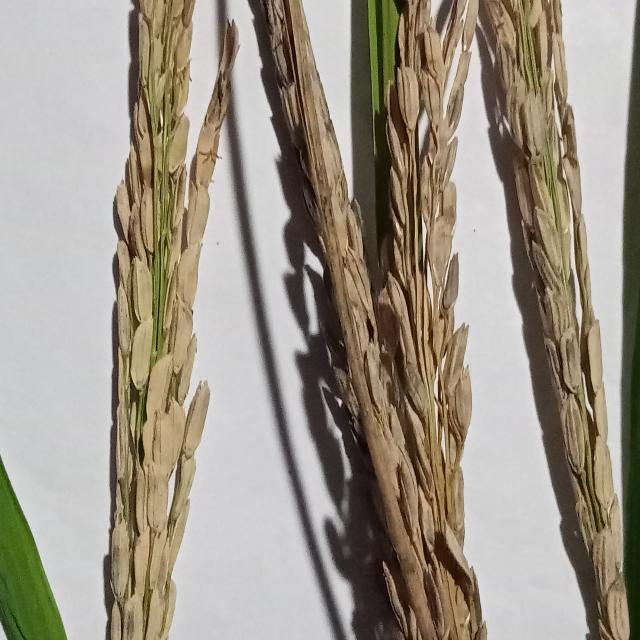Neck_Blast: (252, 0, 496, 640), (460, 0, 637, 640), (99, 1, 240, 640)
